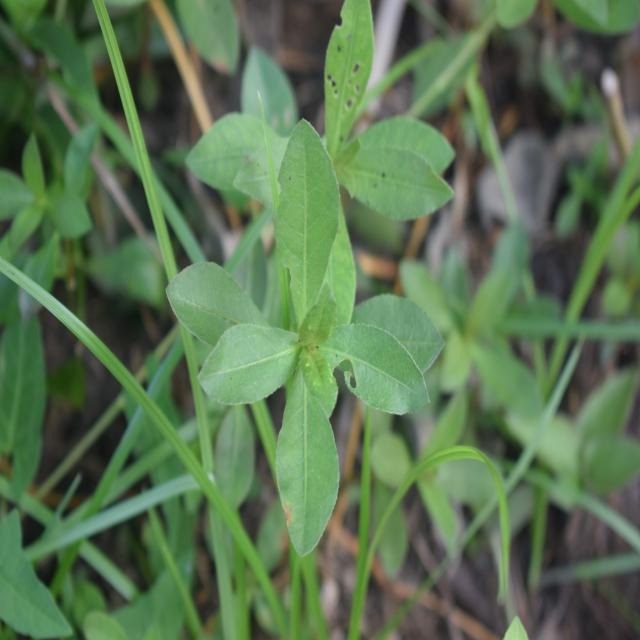Alligatorweed: (162, 136, 428, 553)
